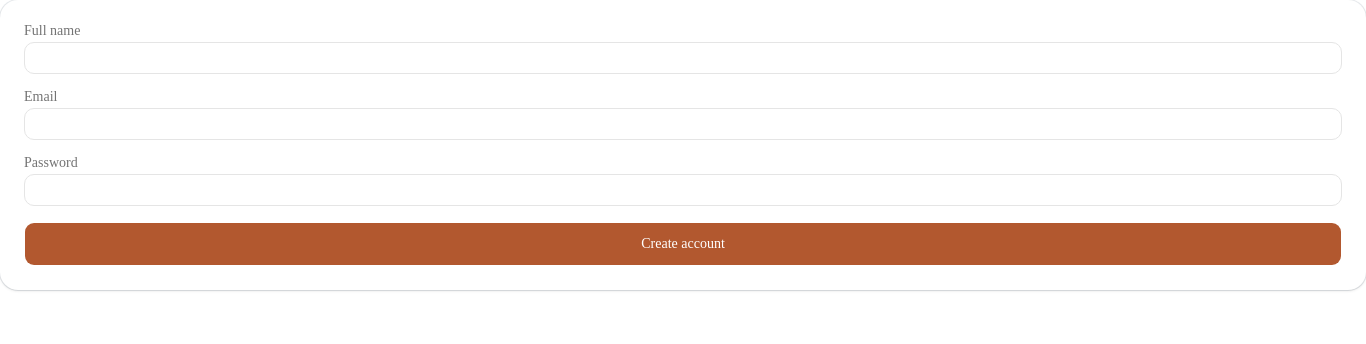
it: SignUpForm › blocks submission and shows an inline error when the name is missing
Type "jane@example.com" into the field labelled "Email" at x=683, y=124, box [24,108,1342,140]
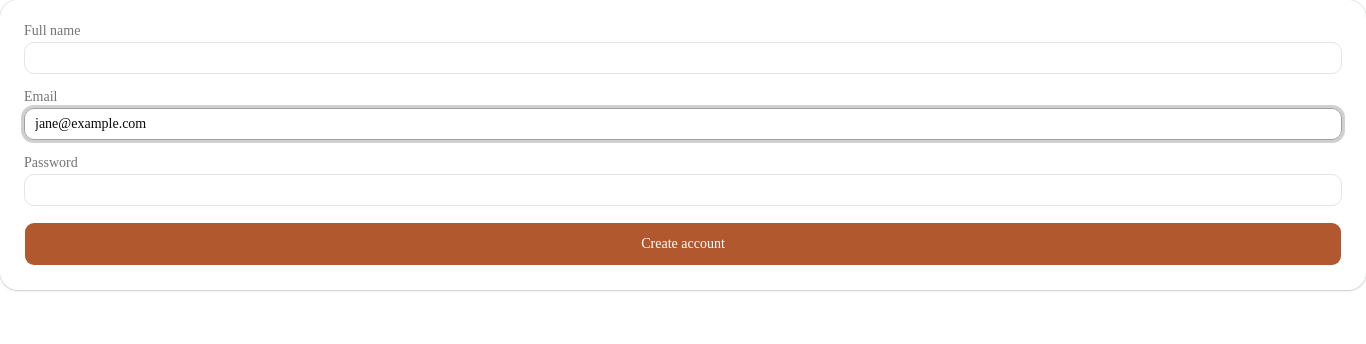
Type "password123" into the password field labelled "Password" at x=683, y=190, box [24,174,1342,206]
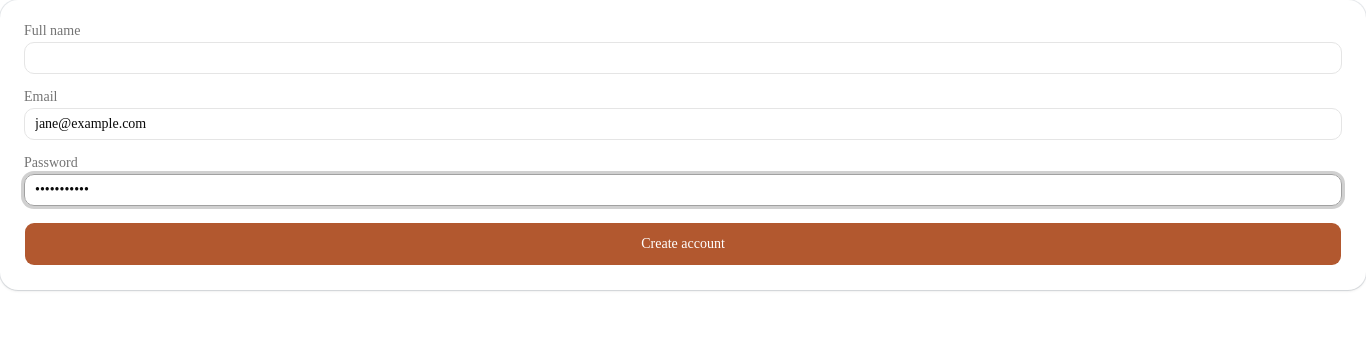
Click the button "Create account" at x=683, y=244, box [24,222,1342,266]
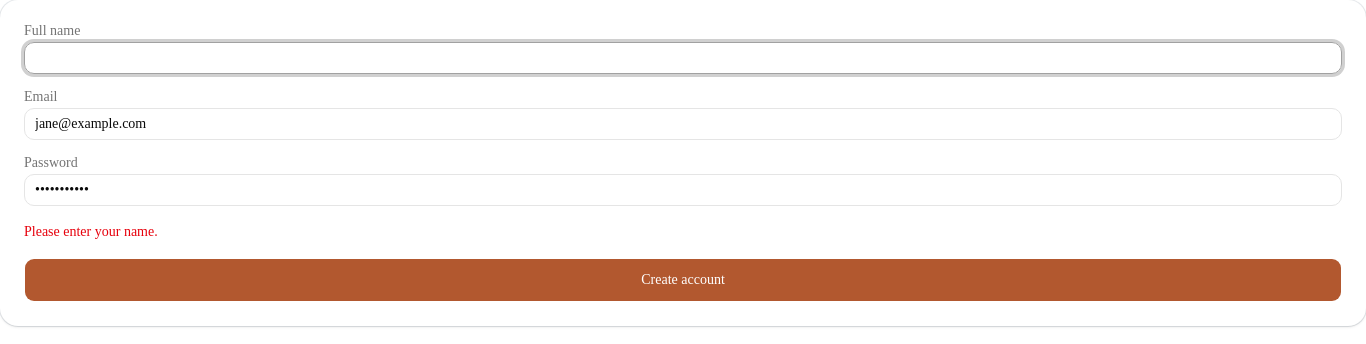
Expected: the message "Please enter your name." is shown, [24,224,158,239]
